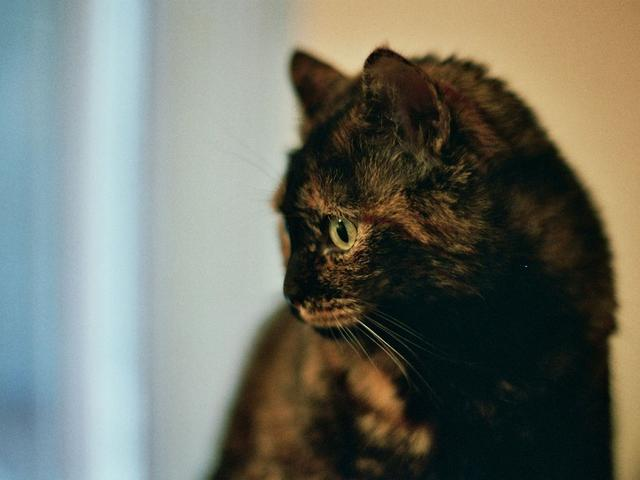cat: (241, 24, 625, 422)
